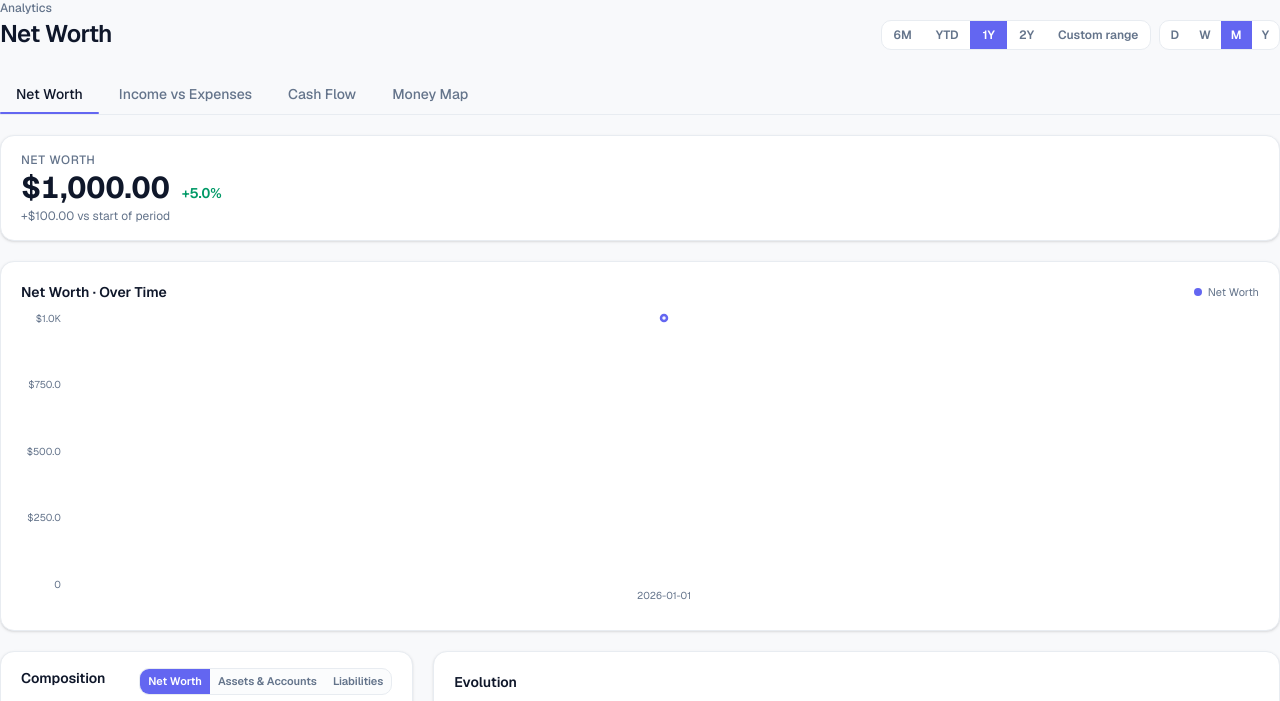
Scenario: Reset then Apply restores the fallback for reports.incomeExpenses
Click the button "Income vs Expenses": (185, 94) x1=103 y1=74 x2=268 y2=114
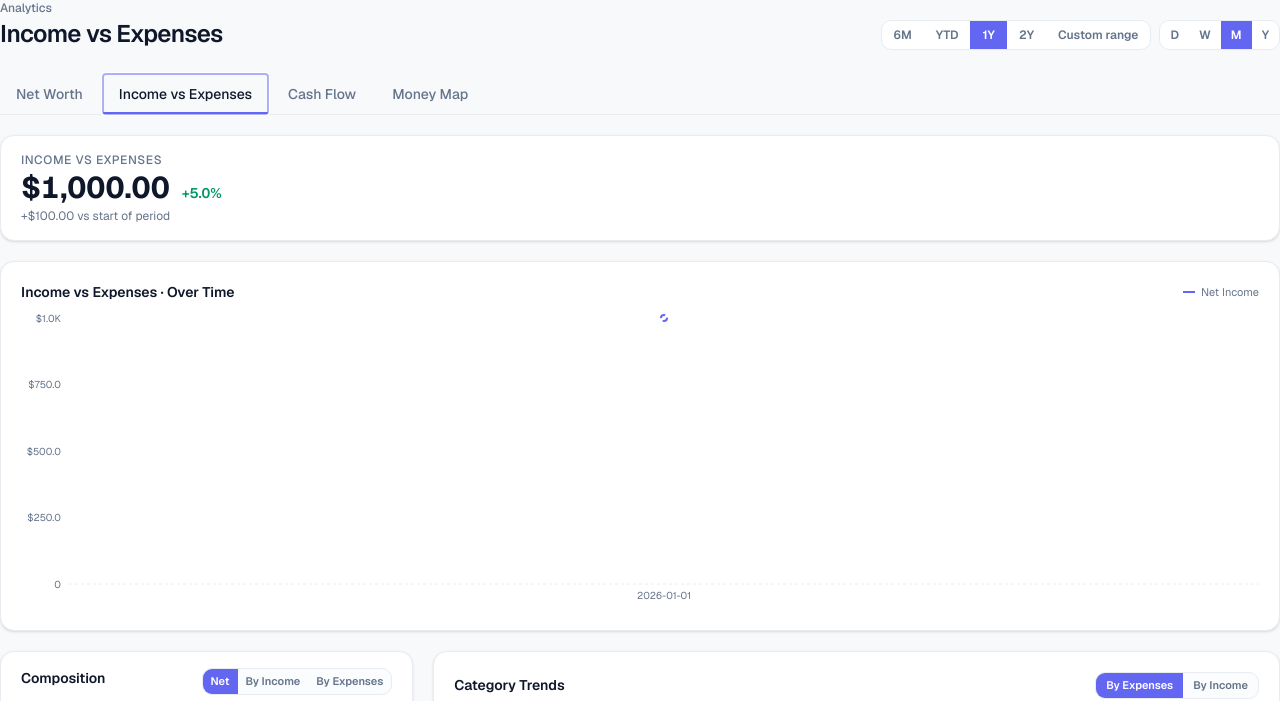
Click the button "Custom range": (1098, 35) x1=1046 y1=21 x2=1150 y2=49
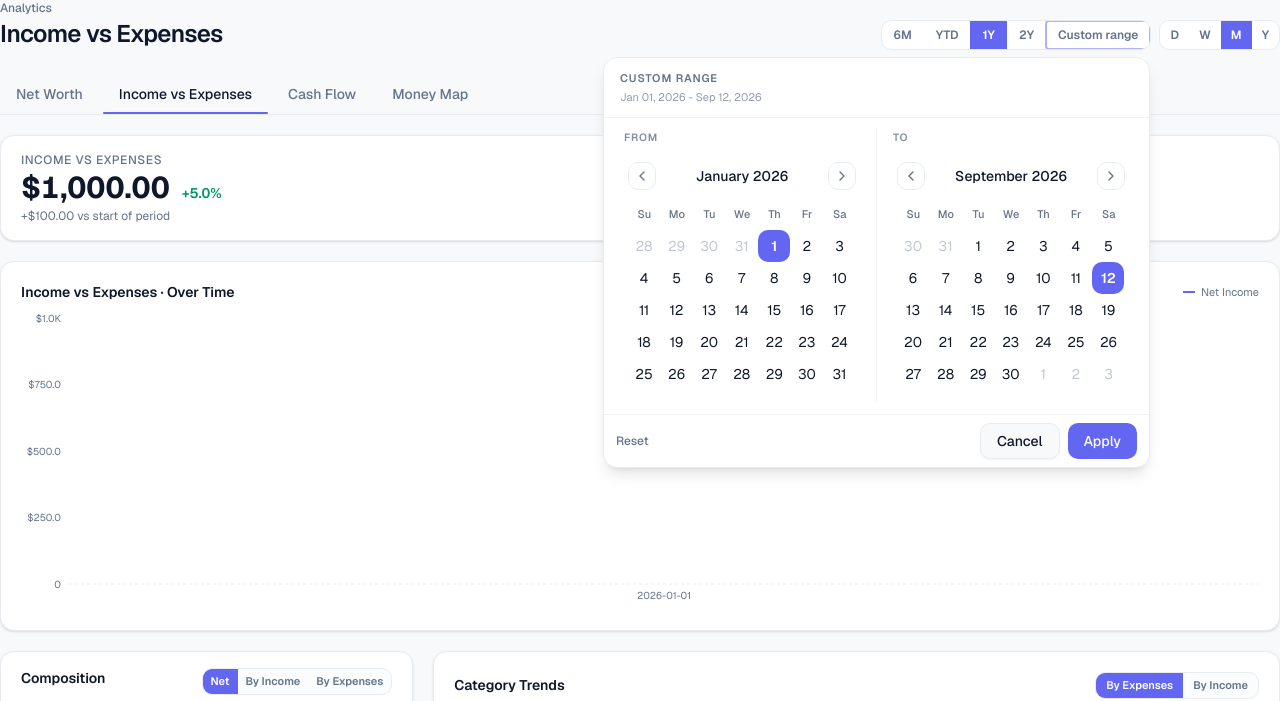
Click the button "Apply": (1102, 441) x1=1068 y1=423 x2=1137 y2=459
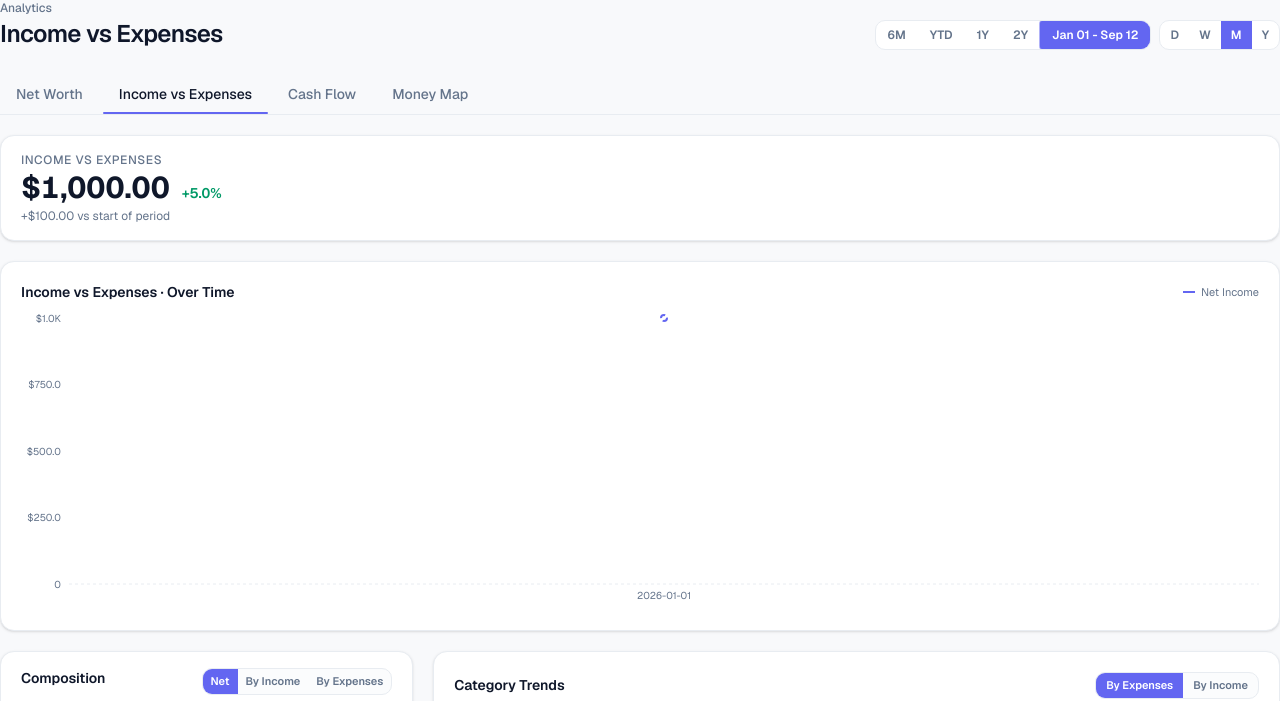
Click the button with aria-label "Custom range": (1095, 35) x1=1040 y1=21 x2=1150 y2=49
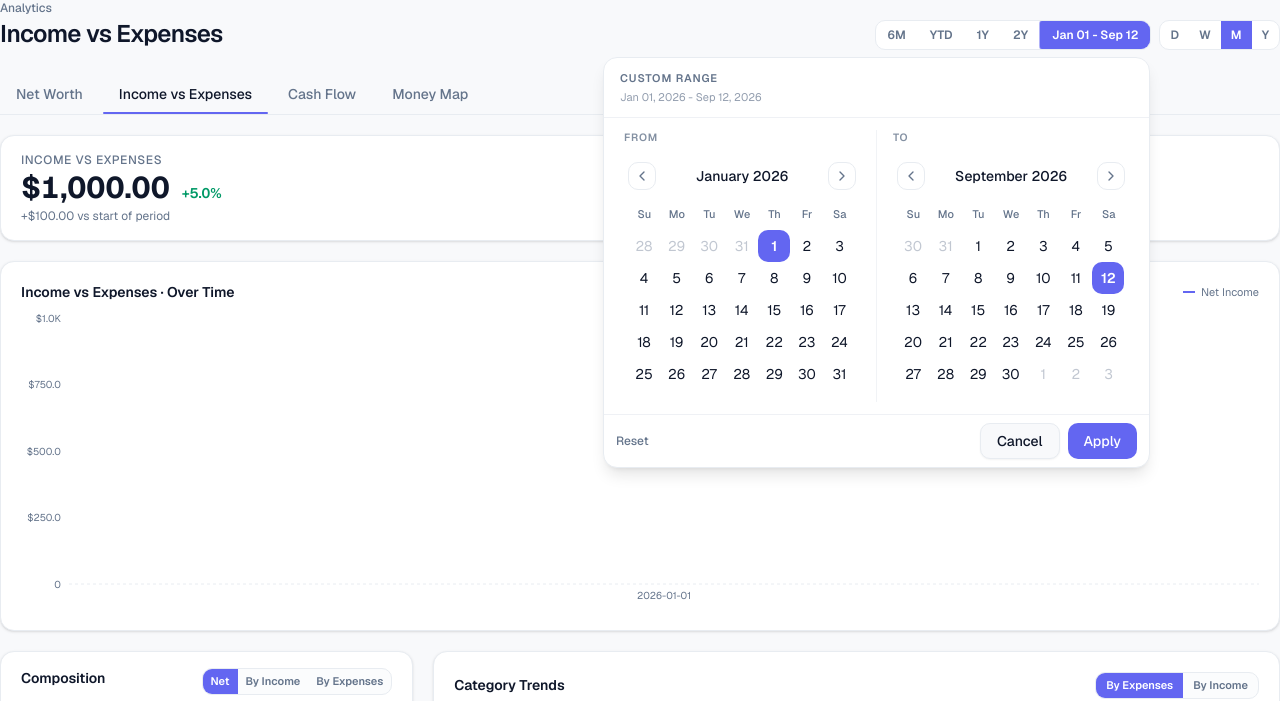
Click the button "Reset": (632, 441) x1=616 y1=432 x2=649 y2=450
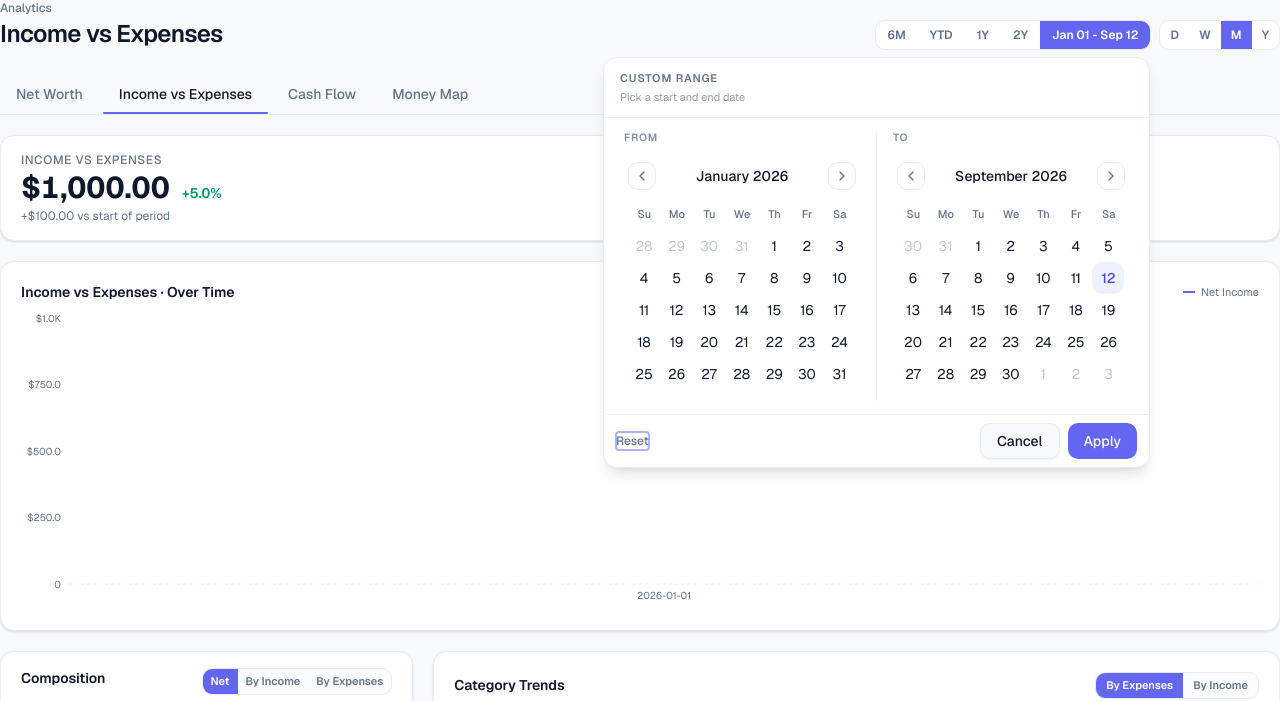
Click the button "Apply": (1102, 441) x1=1068 y1=423 x2=1137 y2=459
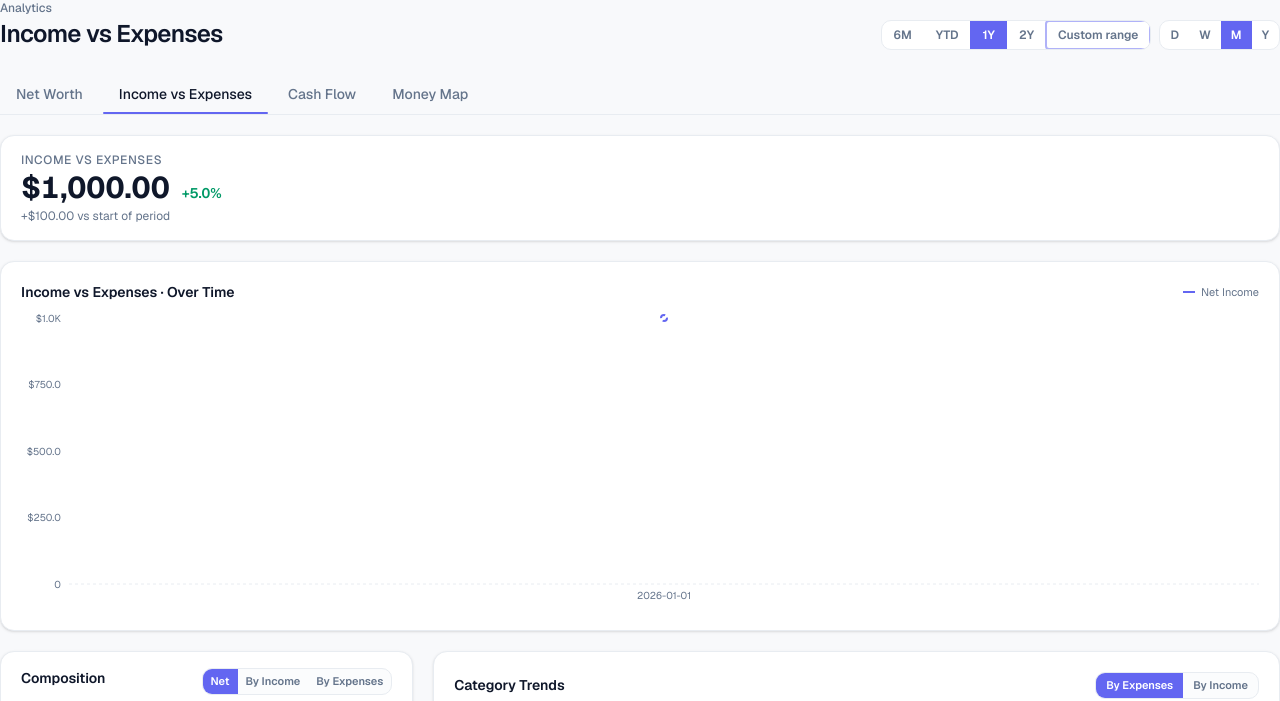
Result: the button "Custom range" is shown at x1=1046 y1=21 x2=1150 y2=49
